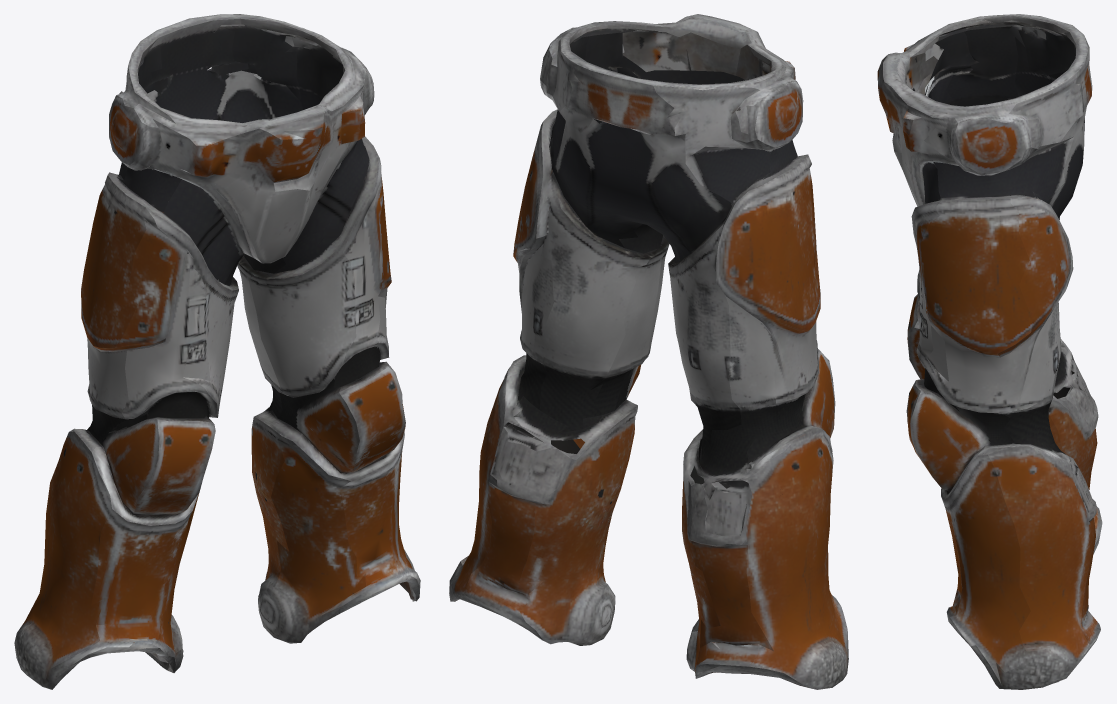
The model's file is bottoms_registered.glb.
3 renders of one model, left to right at view 1: azimuth 30°, elevation 25°; view 2: azimuth 150°, elevation 25°; view 3: azimuth 270°, elevation 25°, orthographic. The views are drawn at different scales.
Visible parts, largest first — view 1: RBX_LC_bottoms; view 2: RBX_LC_bottoms; view 3: RBX_LC_bottoms.
Part boxes in pixels (left/top/right/bottom): RBX_LC_bottoms: left=14, top=14, right=420, bottom=689; RBX_LC_bottoms: left=449, top=14, right=848, bottom=689; RBX_LC_bottoms: left=877, top=14, right=1102, bottom=689.
Bounding box in the file's own units: 0.3248 × 0.4925 × 0.1759.
1 material, 1 textured.
